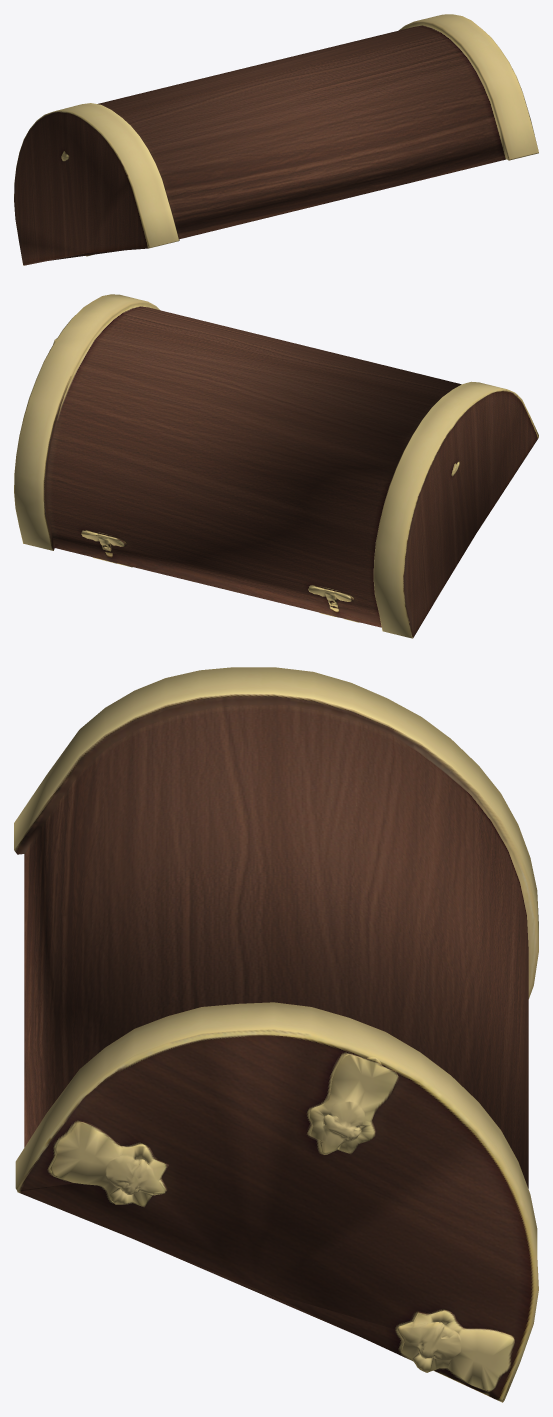
File: chest 3d  top model.glb
The picture shows the model from 3 angles, top to bottom: view 1: azimuth 30°, elevation 25°; view 2: azimuth 150°, elevation 25°; view 3: azimuth 270°, elevation 25°; orthographic projection. The views are drawn at different scales.
Parts seen in each view (by area): view 1: tripo_node_09b7eb70-28ae-4b32-ac49-1cf440e072e2; view 2: tripo_node_09b7eb70-28ae-4b32-ac49-1cf440e072e2; view 3: tripo_node_09b7eb70-28ae-4b32-ac49-1cf440e072e2.
Part boxes in pixels (box(x1,y1,x2,y2)): tripo_node_09b7eb70-28ae-4b32-ac49-1cf440e072e2: box(14, 14, 538, 265); tripo_node_09b7eb70-28ae-4b32-ac49-1cf440e072e2: box(14, 294, 538, 638); tripo_node_09b7eb70-28ae-4b32-ac49-1cf440e072e2: box(14, 667, 538, 1402).
Size of the model in its own units: 0.998 by 0.4707 by 0.5957.
Materials: 1 (1 with a texture image).
